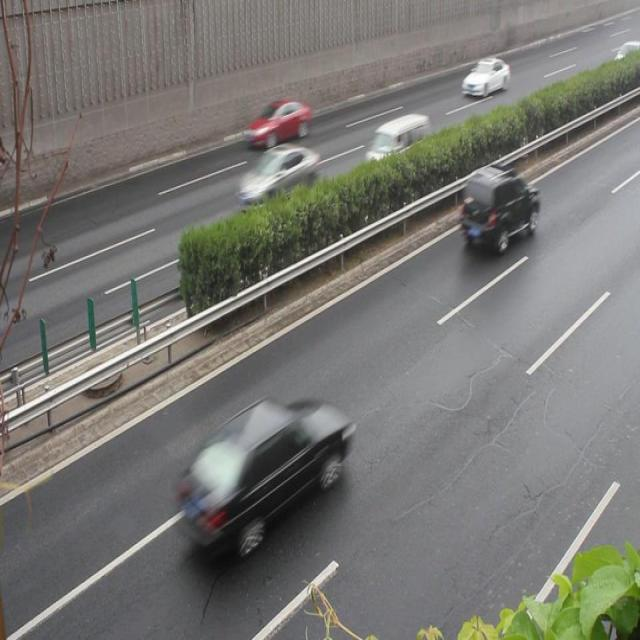car: (178, 399, 350, 548), (460, 165, 538, 253), (234, 146, 318, 211), (246, 101, 308, 147), (461, 57, 508, 101)
truck: (364, 115, 432, 182)
